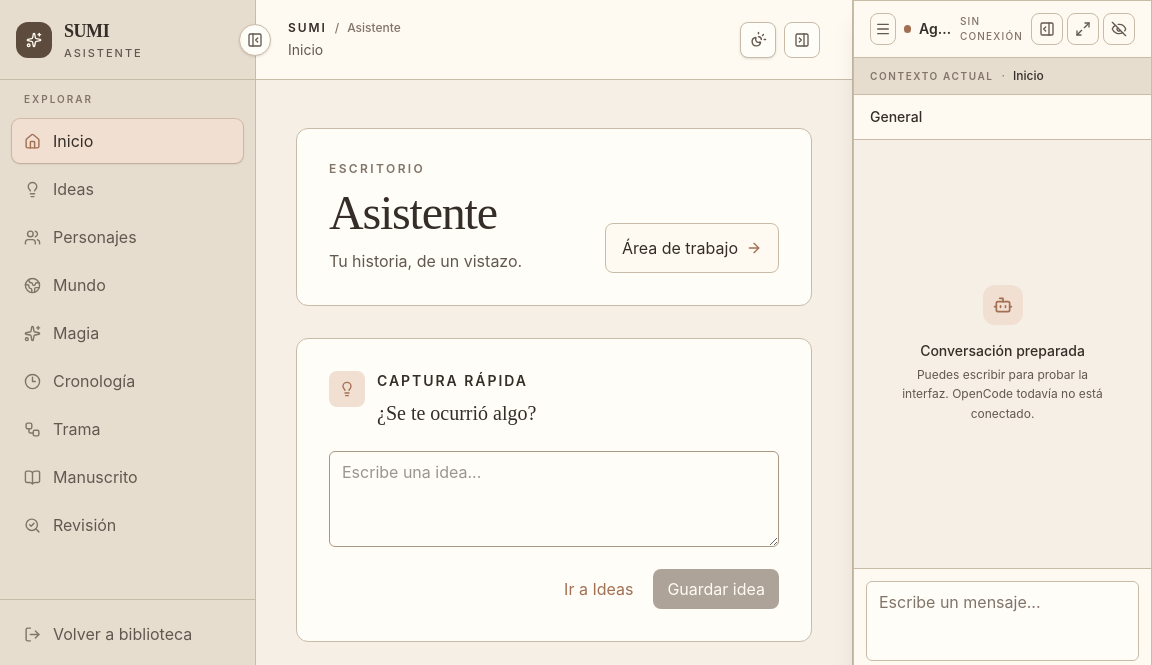
Test: SUMI Assistant › closes the drawer on selection, Escape and outside click
Step 1. Click the button named "Abrir conversaciones" → (883, 29), box [870,13,896,45]
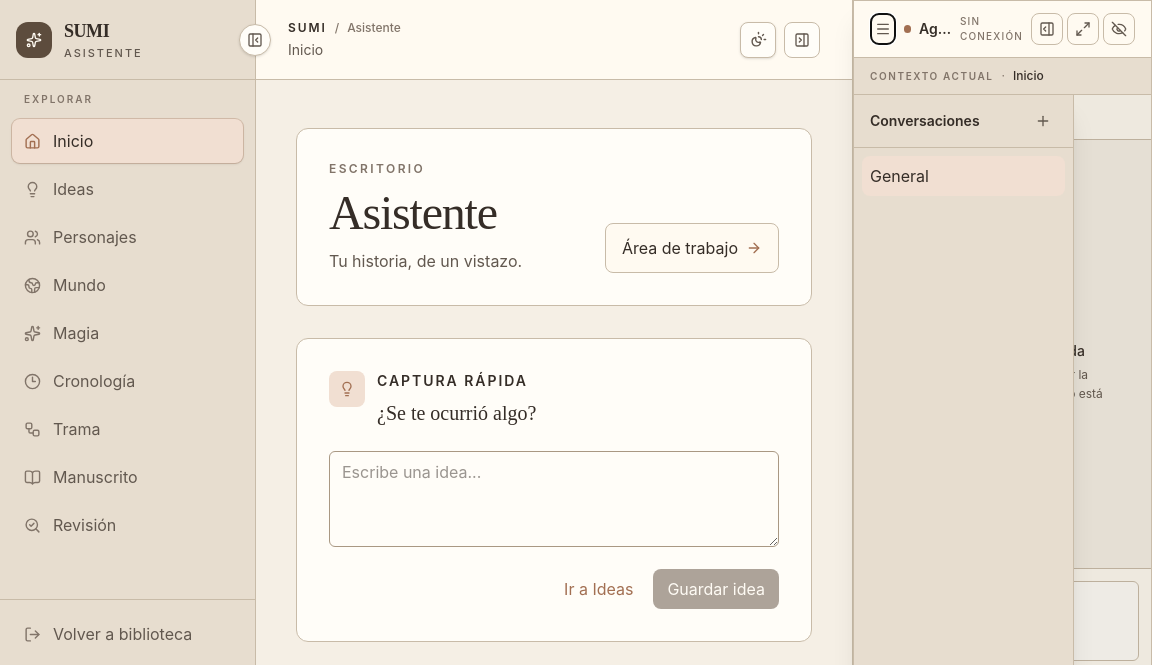
Step 2. Click the button "General" → (948, 176), box [862,156,1033,196]
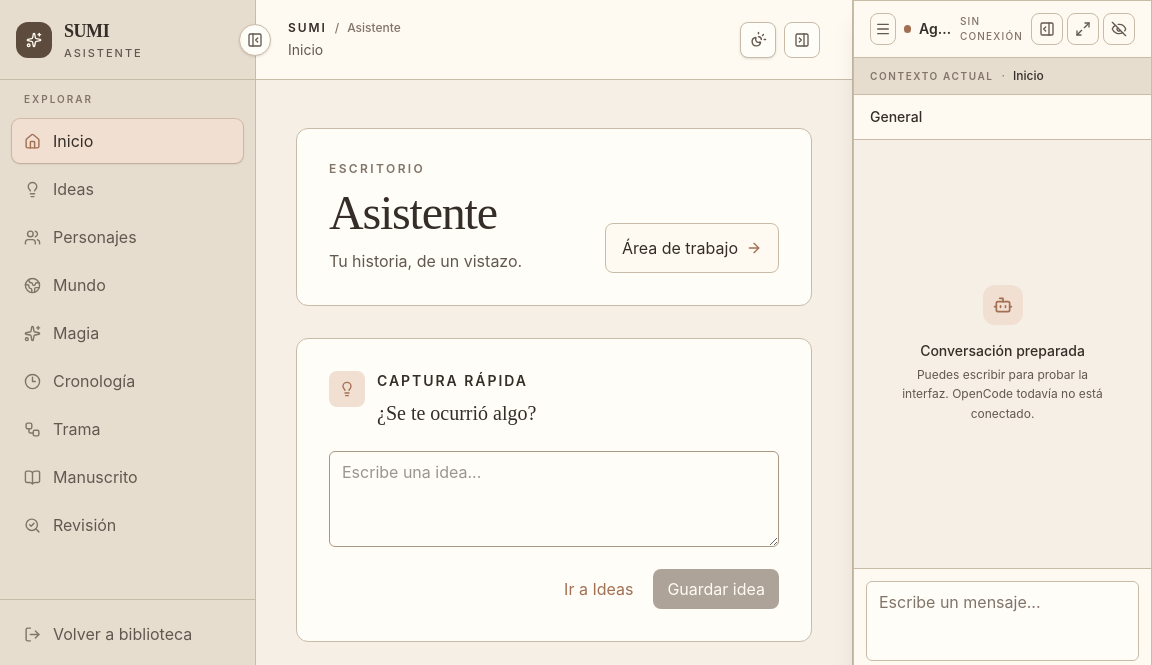
Expected: the text "Conversaciones" is gone
Step 3. Click the button named "Abrir conversaciones" → (883, 29), box [870,13,896,45]
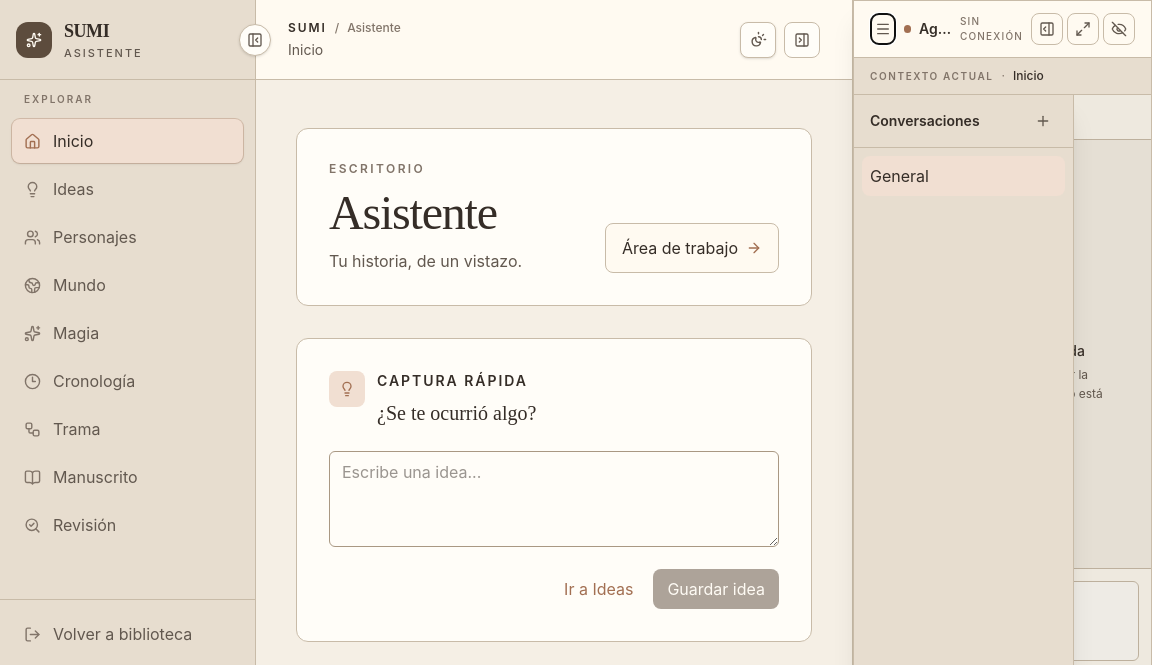
Step 4. Press Escape
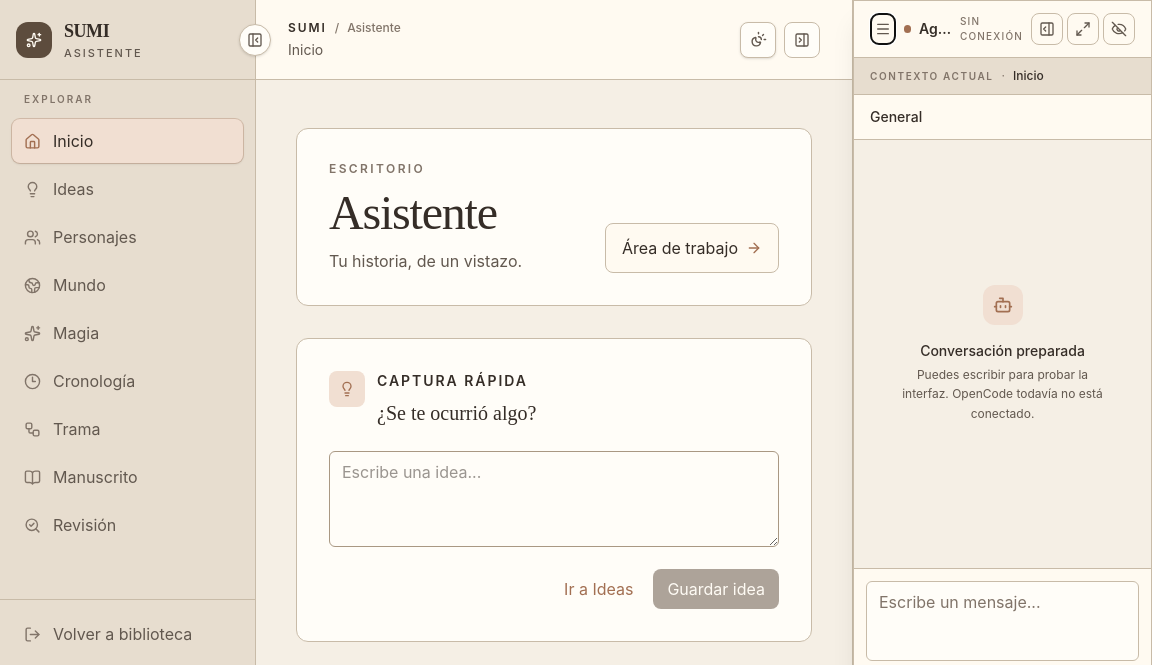
Expected: the text "Conversaciones" is gone
Step 5. Click the button named "Abrir conversaciones" → (883, 29), box [870,13,896,45]
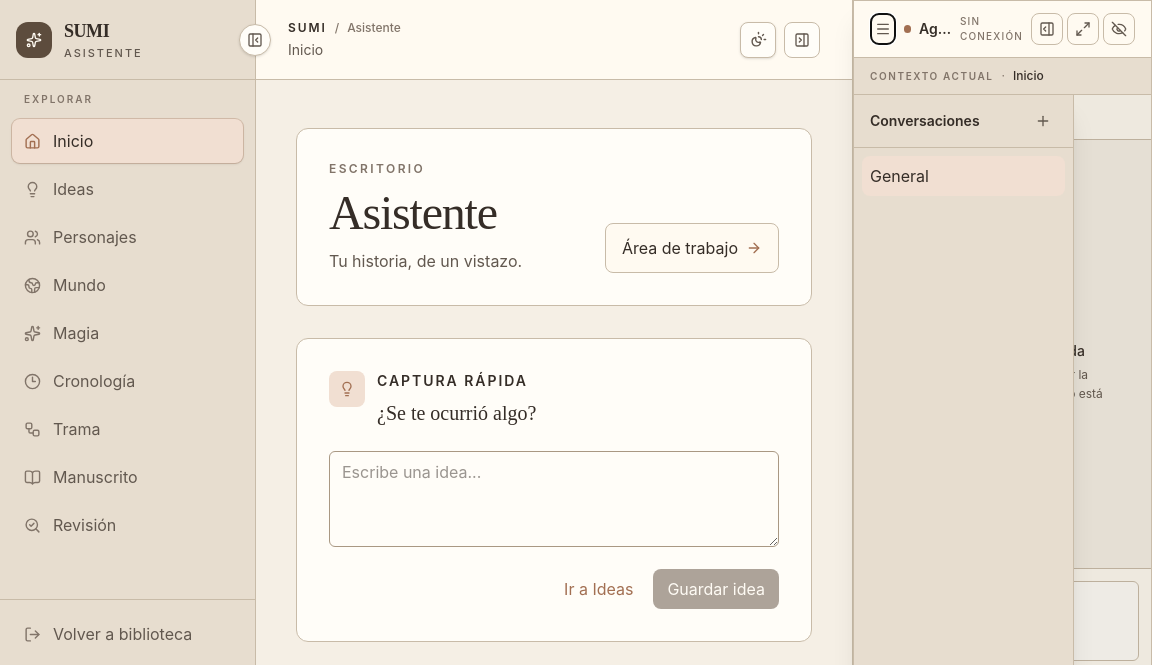
Step 6. Click the button named "Cerrar conversaciones" → (883, 29), box [870,13,896,45]
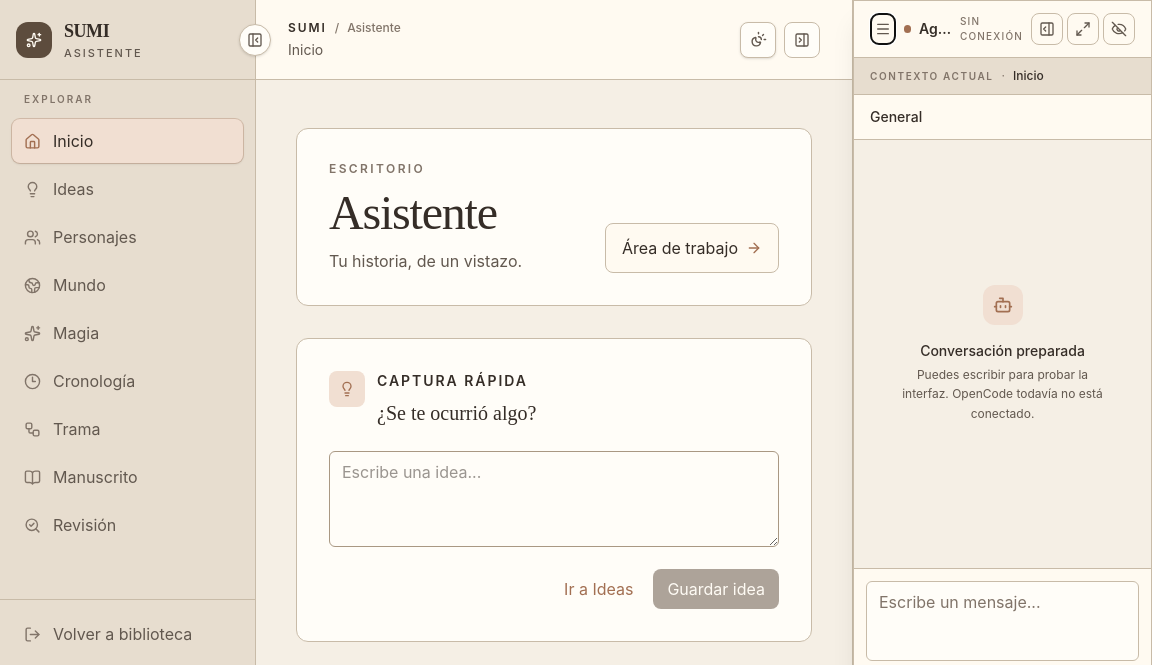
Expected: the text "Conversaciones" is gone
